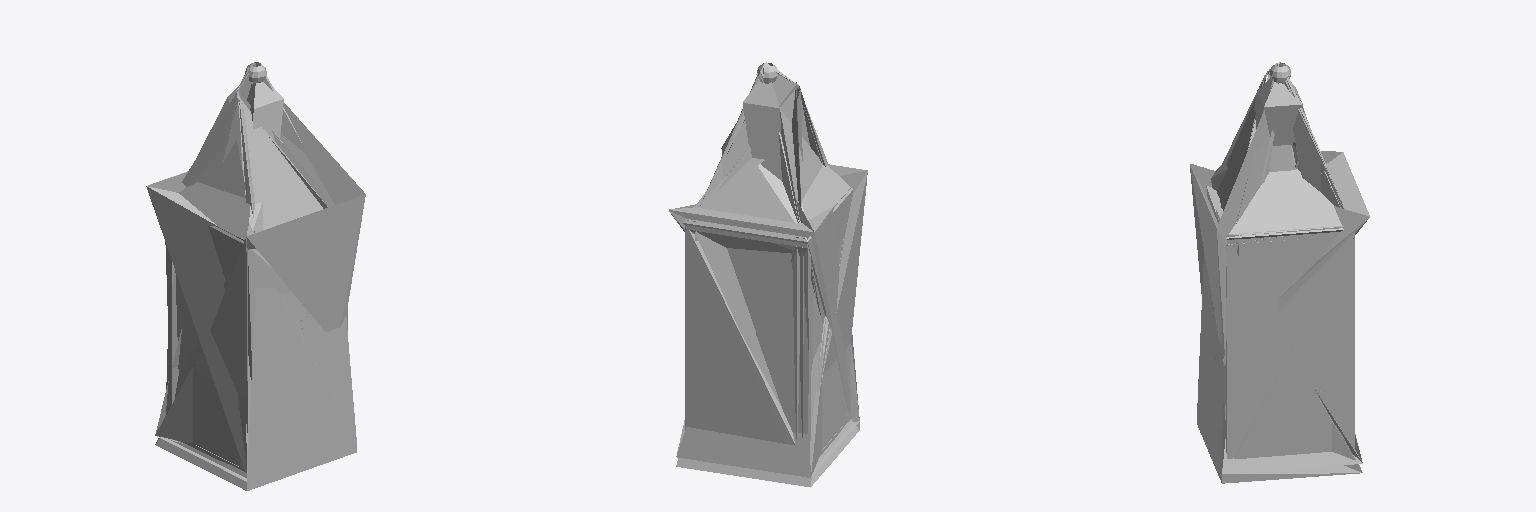
The model's file is lantern.obj.
3 views of the same model, side by side, from view 1: azimuth 30°, elevation 25°; view 2: azimuth 150°, elevation 25°; view 3: azimuth 270°, elevation 25° (orthographic).
Parts seen in each view (by area): view 1: Torus002, Sphere002, Box029, Cylinder002; view 2: Torus002, Cylinder002, Sphere002; view 3: Torus002, Sphere002, Cylinder002, Box029.
Part boxes in pixels (x1,y1,x2,y2): Torus002: (146,62,365,490); Sphere002: (156,249,356,490); Box029: (247,292,356,490); Cylinder002: (155,226,308,489); Torus002: (669,62,867,486); Cylinder002: (689,187,859,475); Sphere002: (677,237,859,486); Torus002: (1190,62,1369,476); Sphere002: (1197,186,1362,482); Cylinder002: (1197,186,1361,483); Box029: (1197,301,1360,477).
Bounding box in the file's own units: 567669 × 1335226 × 567669.